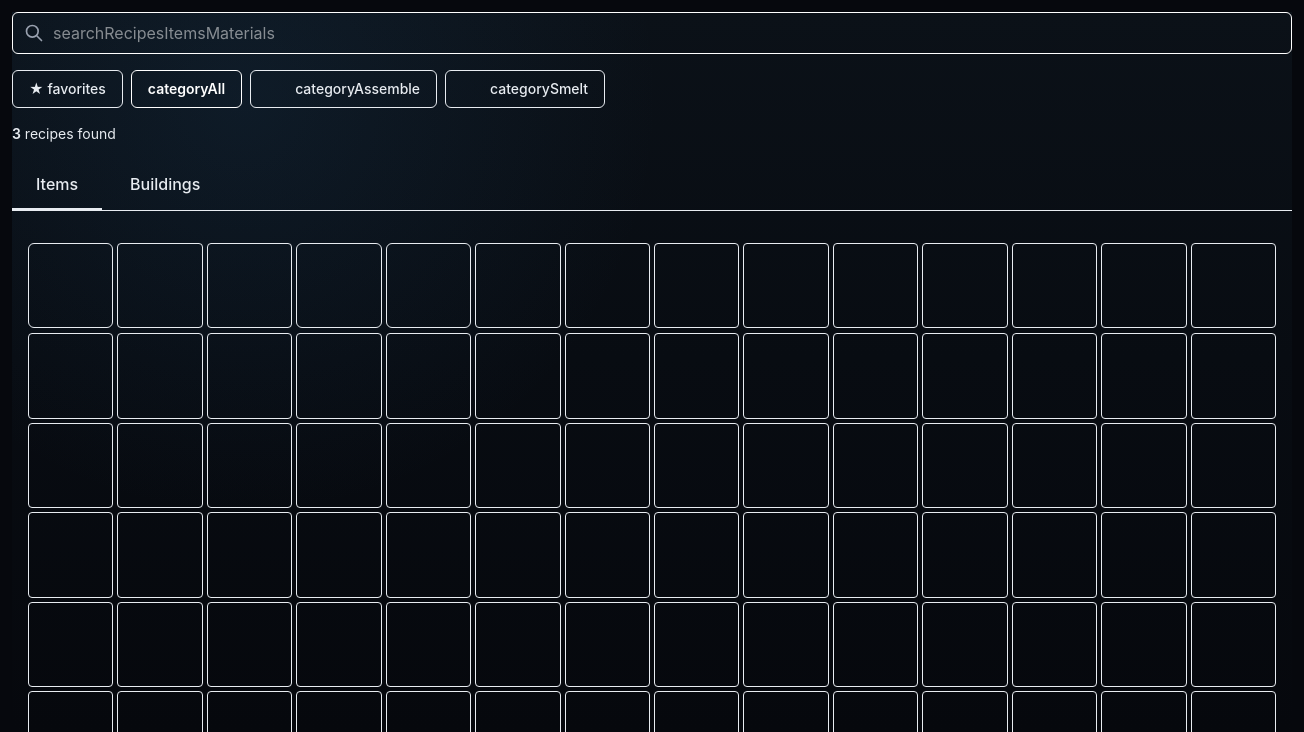
RecipeSelector › 検索結果がない場合にヘルプメッセージを表示する
The image size is (1304, 732).
存在しないアイテムで検索
In the field with placeholder "searchRecipesItemsMaterials": point(652, 33) left=12, top=12, right=1292, bottom=54, type "nonexistent"
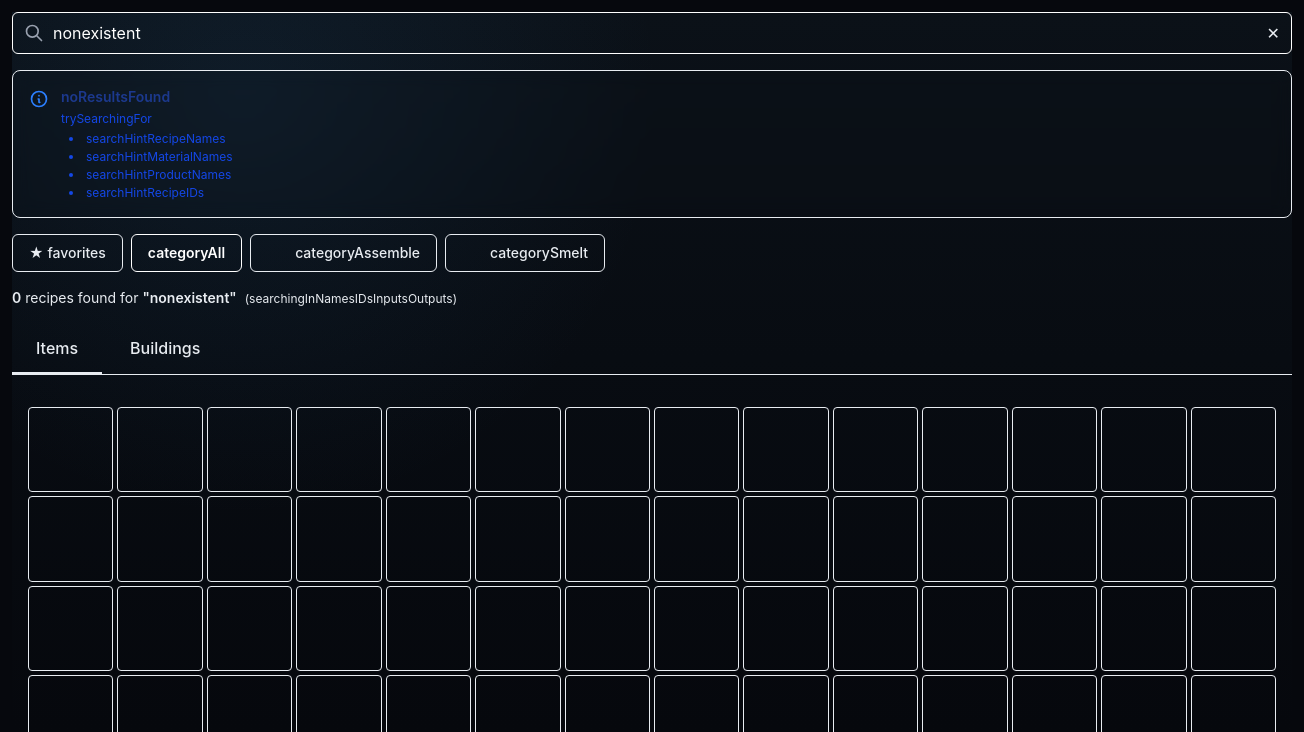
expect the text "noResultsFound" is shown: met, box left=61, top=88, right=170, bottom=105
